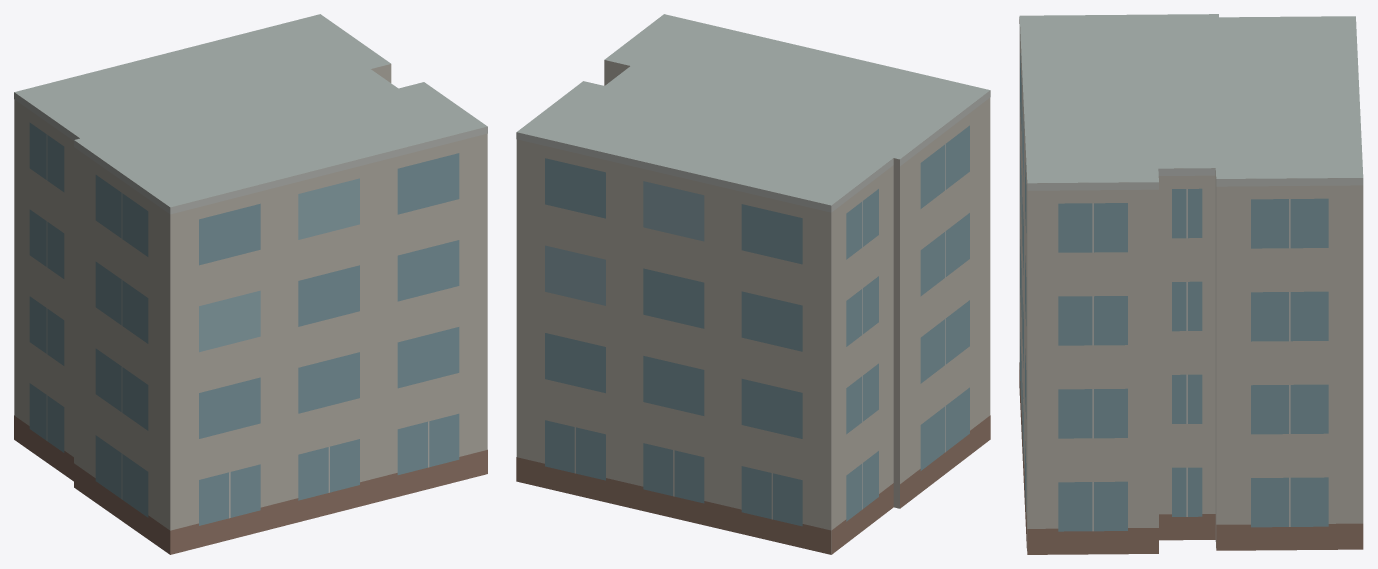
File: survey-upis-32917660.glb
3 views of the same model, side by side, from view 1: azimuth 30°, elevation 25°; view 2: azimuth 150°, elevation 25°; view 3: azimuth 270°, elevation 25° (orthographic). The views are drawn at different scales.
Visible parts, largest first — view 1: survey-upis-32917660.tmp; view 2: survey-upis-32917660.tmp; view 3: survey-upis-32917660.tmp.
Part boxes in pixels (x1,y1,x2,y2): survey-upis-32917660.tmp: (14, 14, 487, 554); survey-upis-32917660.tmp: (516, 14, 990, 554); survey-upis-32917660.tmp: (1019, 14, 1363, 554).
Bounding box in the file's own units: 11.72 × 12 × 10.07.
